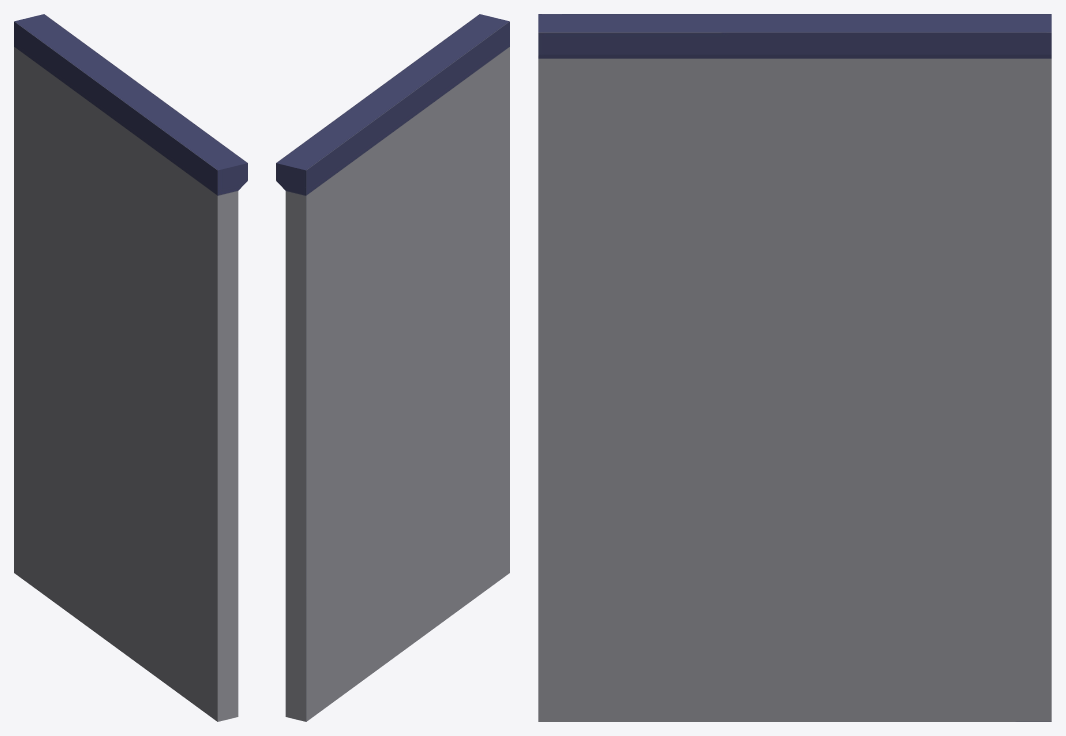
File: wall5.glb
3 renders of one model, left to right at view 1: azimuth 30°, elevation 25°; view 2: azimuth 150°, elevation 25°; view 3: azimuth 270°, elevation 25°, orthographic. The views are drawn at different scales.
Visible parts, largest first — view 1: Wall5-material; view 2: Wall5-material; view 3: Wall5-material.
Boxes of the visible parts, x1=… form: Wall5-material: x1=14, y1=14, x2=247, y2=721; Wall5-material: x1=276, y1=14, x2=509, y2=721; Wall5-material: x1=538, y1=14, x2=1051, y2=721.
Size of the model in its own units: 0.028 by 0.4864 by 0.3256.
Materials: 1 (1 with a texture image).
